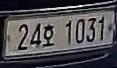0: (74, 16, 86, 43)
1: (63, 17, 74, 45), (97, 15, 106, 43)
2: (15, 24, 30, 51)
3: (85, 17, 96, 42)
4: (30, 22, 42, 48)
호: (41, 23, 55, 49)
